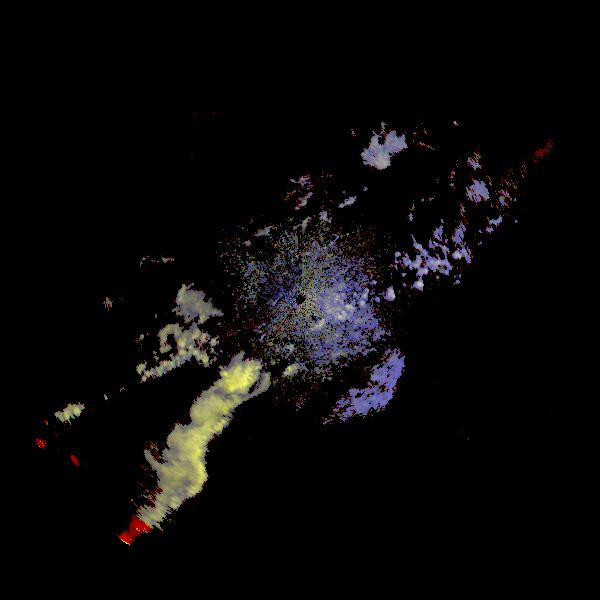roost: (225, 251, 426, 452)
